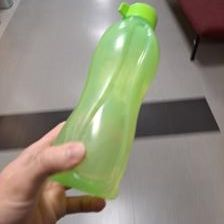bottle: (44, 1, 160, 200)
